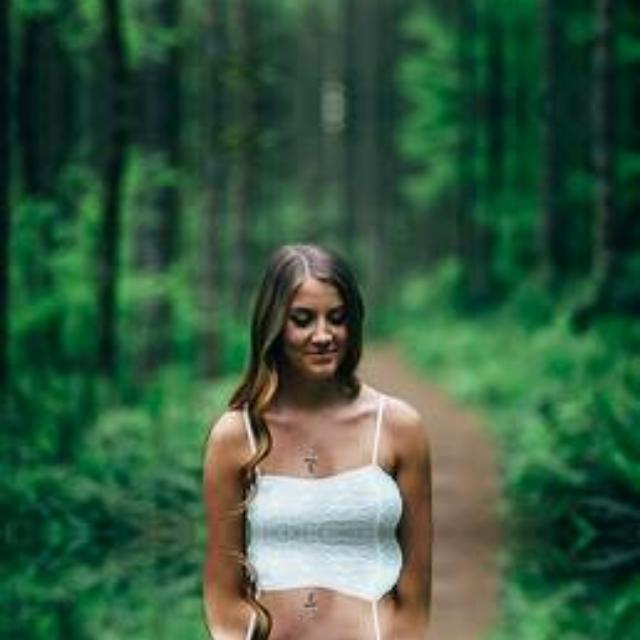person: (211, 235, 445, 532), (211, 532, 445, 640)
